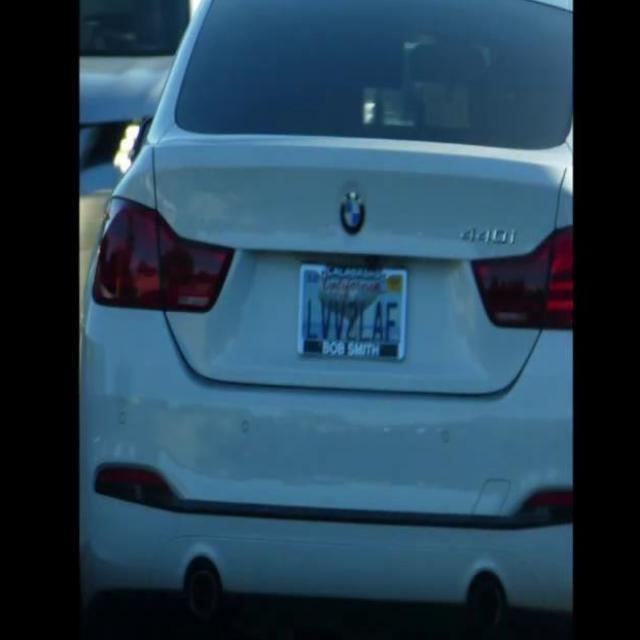license-plate: (293, 263, 427, 368)
